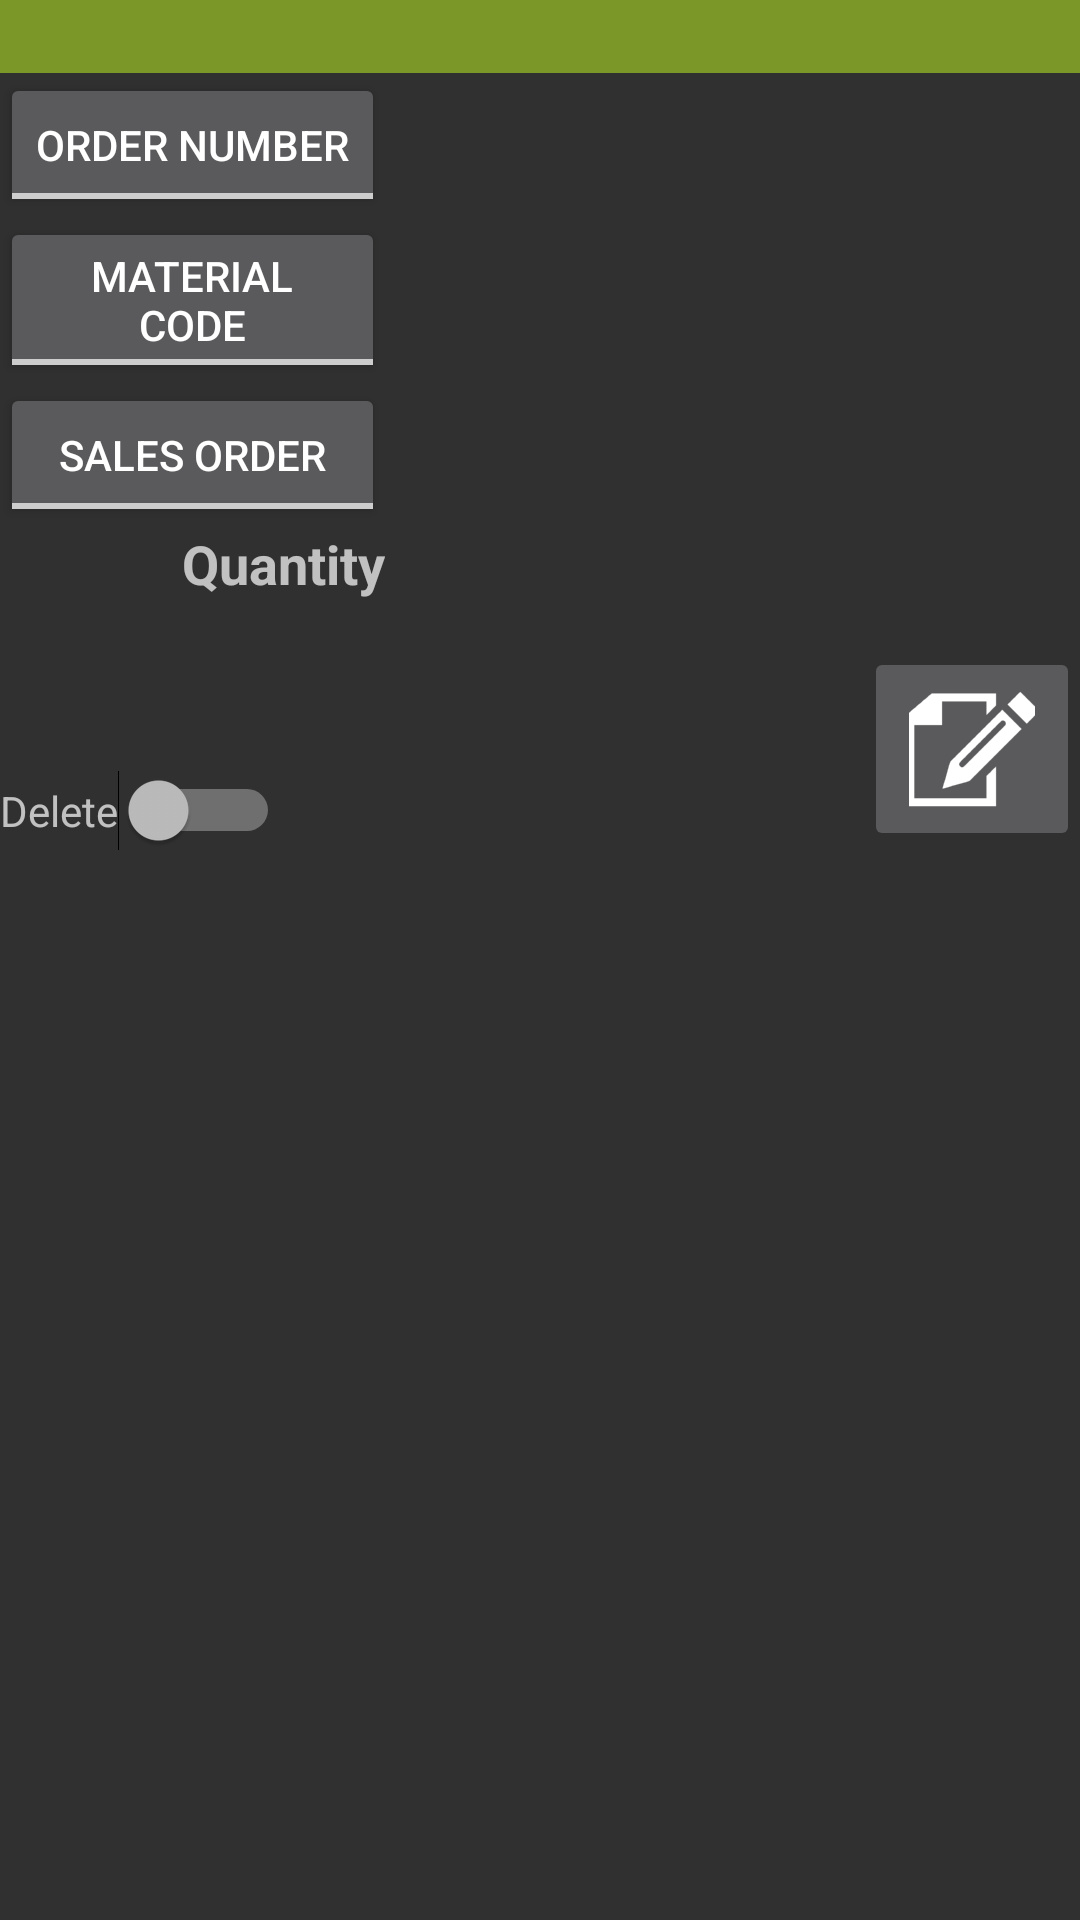

Locate icon controls on the screen. Image size 1080w x 1920h, boxes as [x1,y1,x2,y2].
write: [876,665,1068,833]
